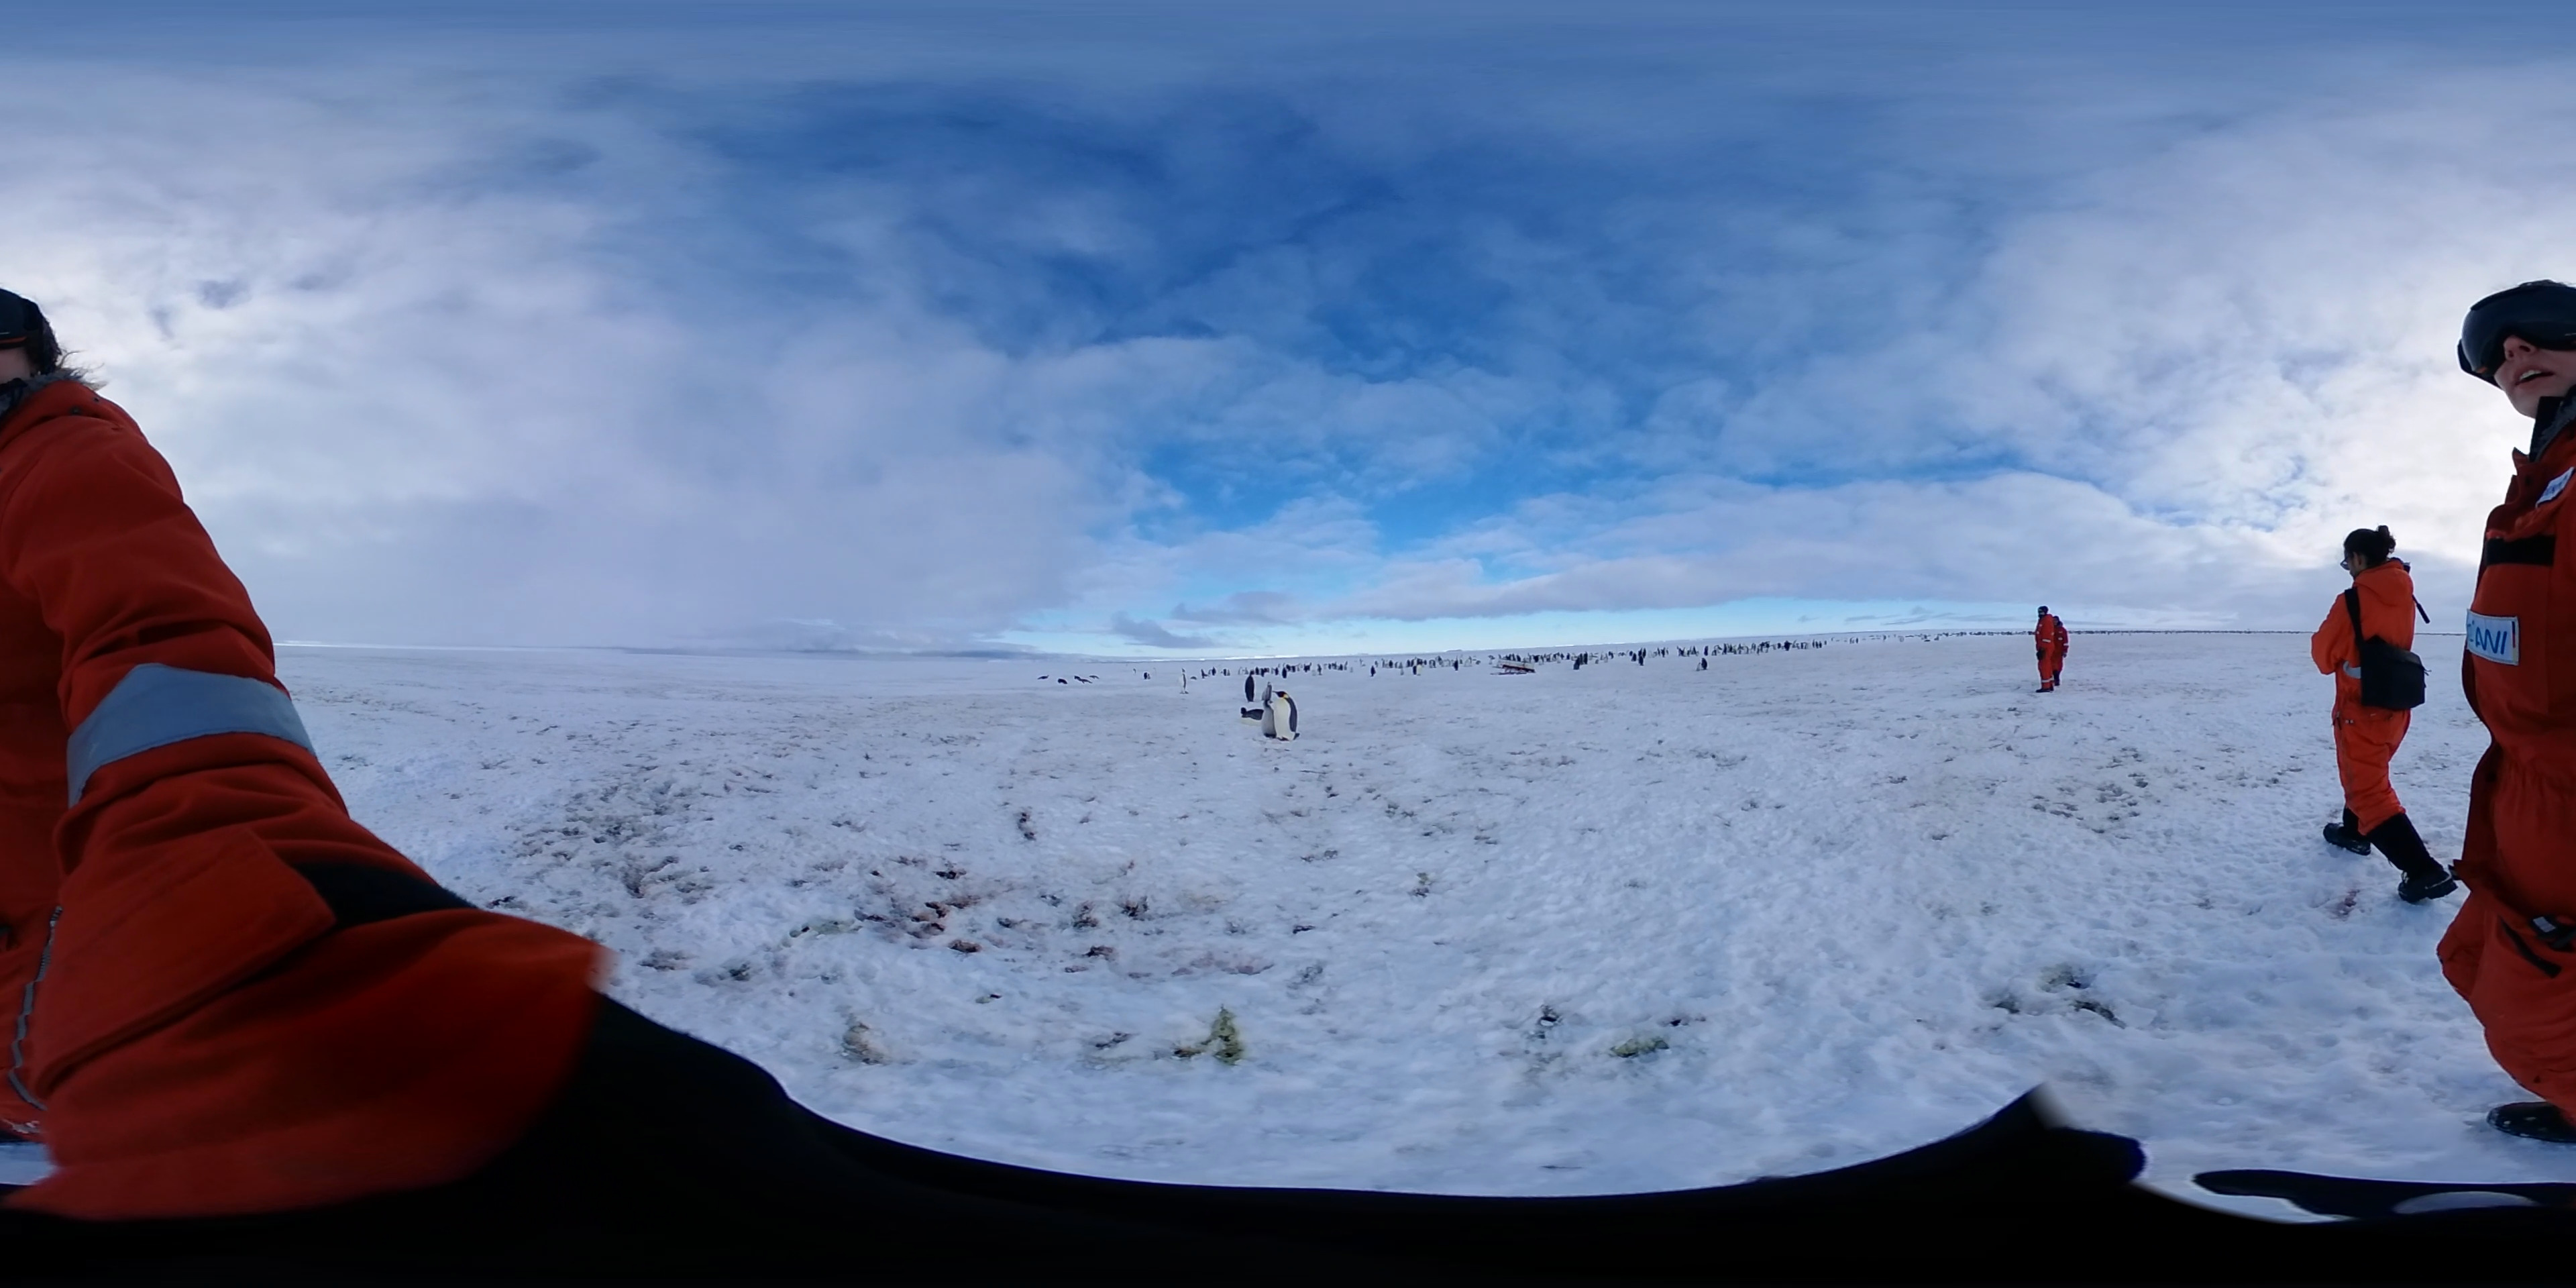adult_standing_penguin: (1272, 690, 1301, 741), (1235, 705, 1273, 721), (1244, 672, 1257, 703)
juvenile_penguin: (1258, 700, 1278, 739), (1260, 680, 1273, 703)
researcher: (2, 283, 537, 1183), (2433, 276, 2576, 1068), (2303, 513, 2464, 907), (2032, 605, 2057, 695), (2049, 614, 2072, 688)
